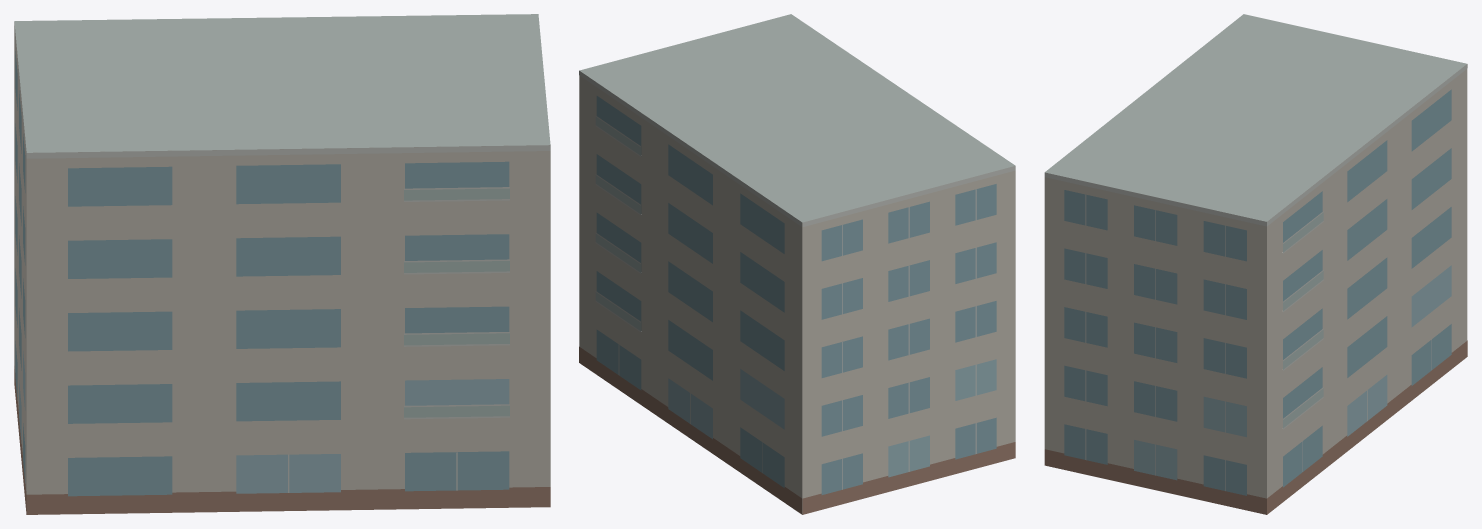
The model's file is survey-upis-32892747.glb.
3 renders of one model, left to right at view 1: azimuth 30°, elevation 25°; view 2: azimuth 150°, elevation 25°; view 3: azimuth 270°, elevation 25°, orthographic. The views are drawn at different scales.
Parts seen in each view (by area): view 1: survey-upis-32892747.tmp; view 2: survey-upis-32892747.tmp; view 3: survey-upis-32892747.tmp.
Part boxes in pixels (box(x1,y1,x2,y2)): survey-upis-32892747.tmp: box(14, 14, 550, 514); survey-upis-32892747.tmp: box(579, 14, 1015, 514); survey-upis-32892747.tmp: box(1044, 14, 1467, 514).
Size of the model in its own units: 22.98 by 15.1 by 19.76.
